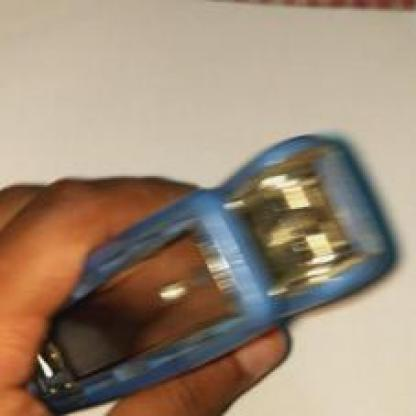stapler: (15, 105, 403, 414)
